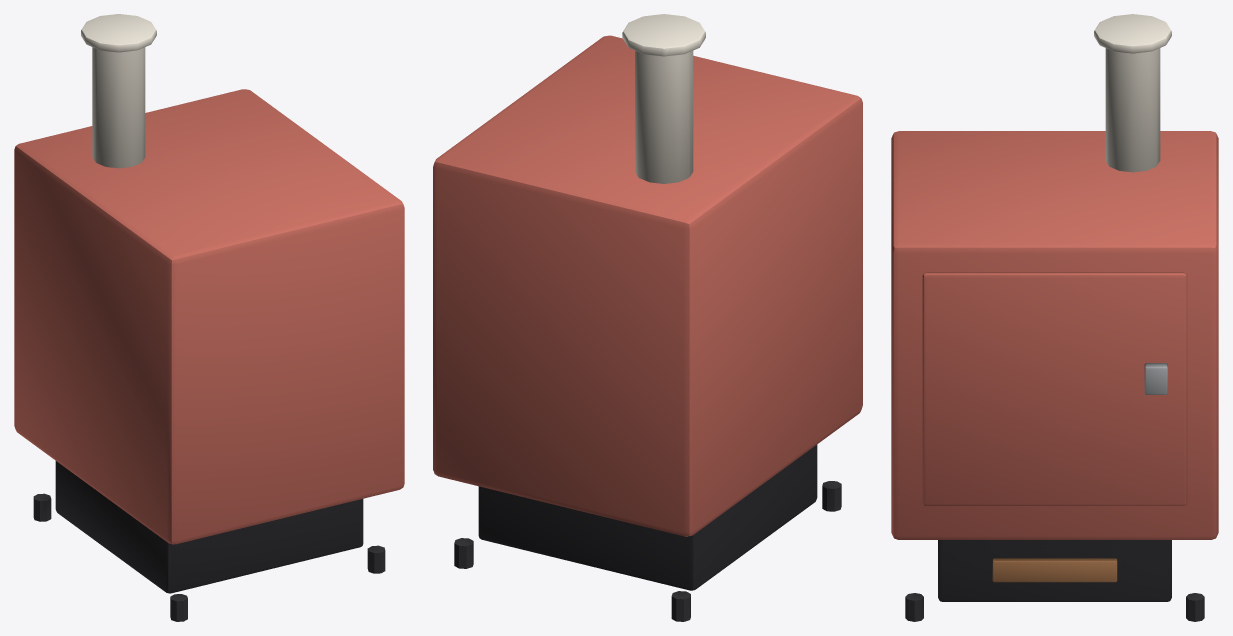
The model's file is cook_smoker.glb.
3 renders of one model, left to right at view 1: azimuth 30°, elevation 25°; view 2: azimuth 150°, elevation 25°; view 3: azimuth 270°, elevation 25°, orthographic. The views are drawn at different scales.
Visible parts, largest first — view 1: PART; view 2: PART; view 3: PART.
Boxes of the visible parts, box(x1,y1,x2,y2) form: PART: box(14, 14, 404, 621); PART: box(433, 14, 862, 621); PART: box(891, 14, 1218, 621).
Bounding box in the file's own units: 0.385 × 0.726 × 0.42.
